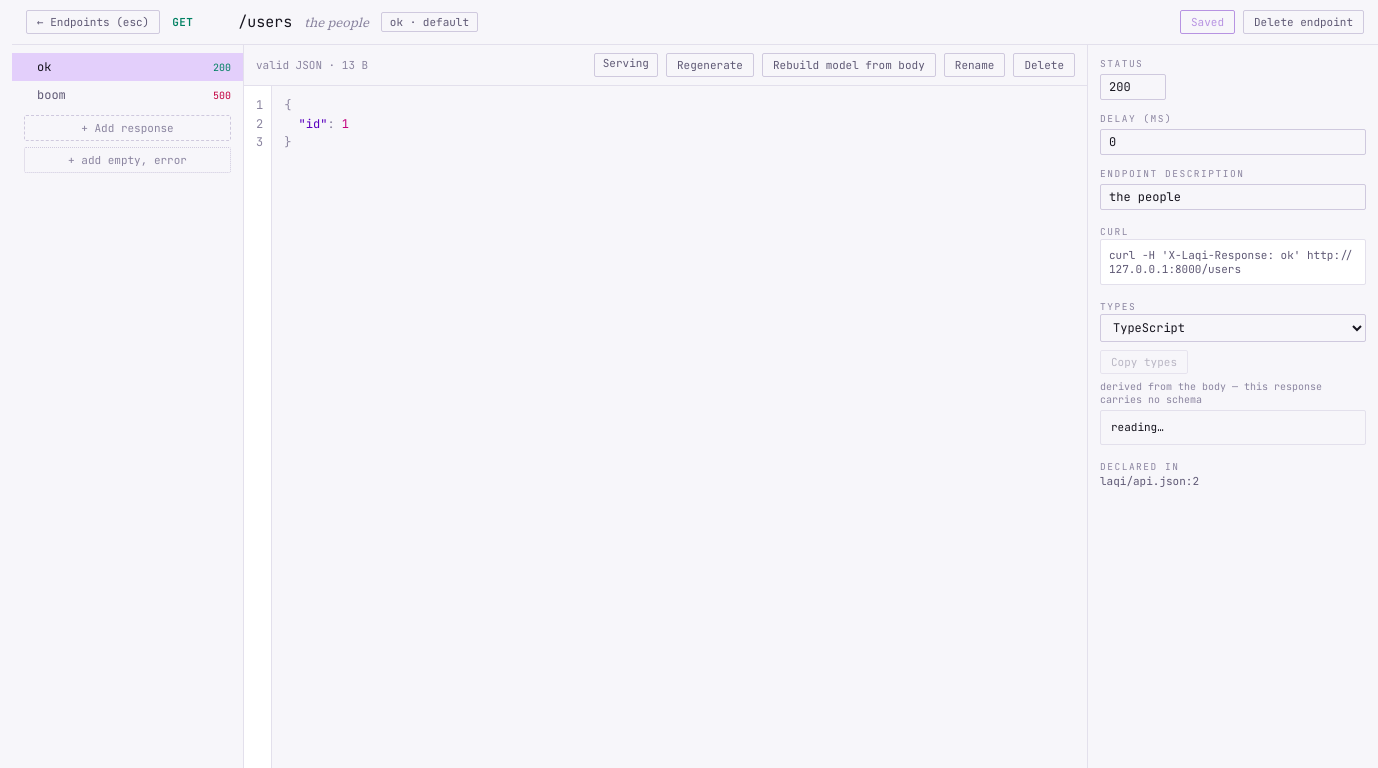
Test case: building a model from a body that has no schema › offers to rebuild once the response has a schema, and says it replaces it
The width and height of the screenshot is (1378, 768).
Click the button "Rebuild model from body".
click(849, 65)  # box [762,53,936,77]
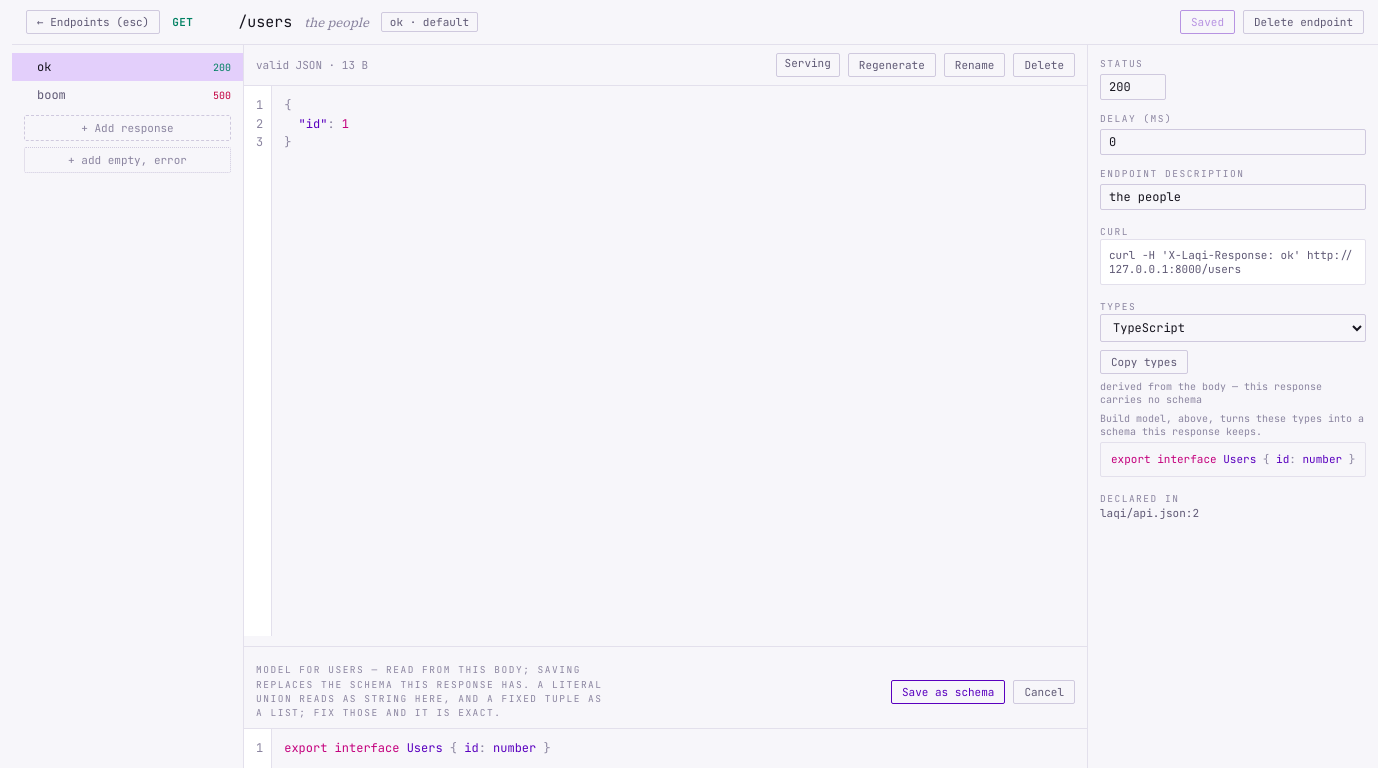
Check: the text box named "model" is shown, box [272,729,1087,767]
Check: the text "replaces the schema this response has" is shown, box [256,663,581,691]
